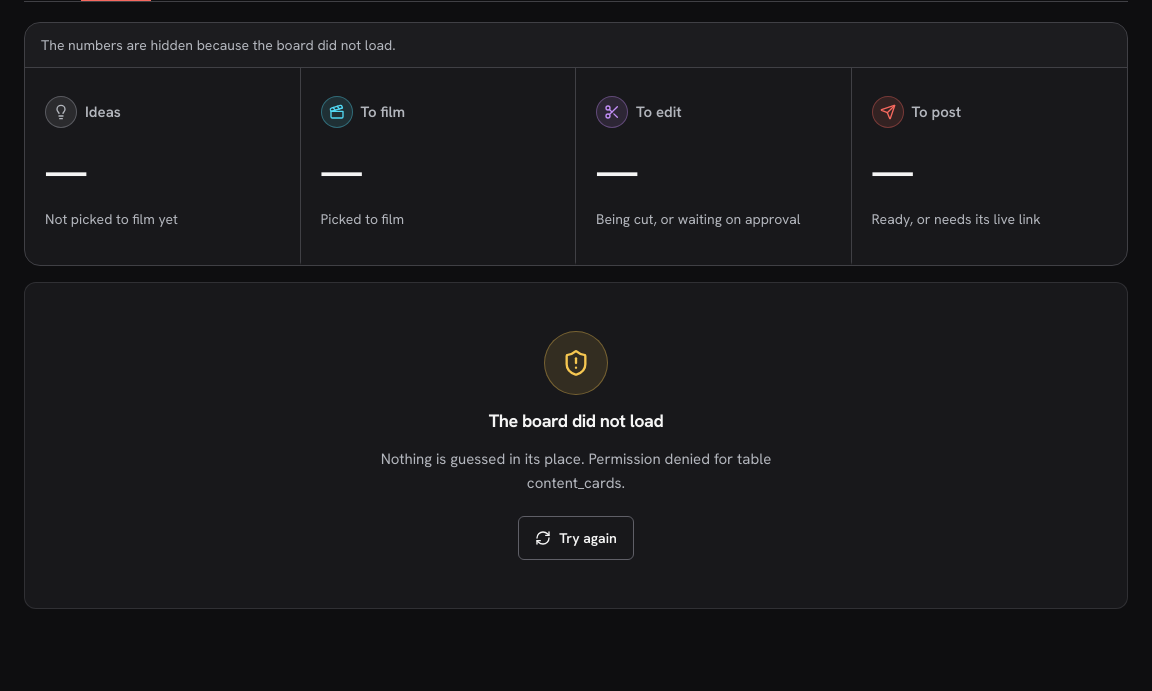
it: Launch Board: the Videos view › a board that did not load says so and shows a dash for every number, never a zero
(page scrolled)
Expected: the heading "The board did not load" is shown, x1=489 y1=407 x2=663 y2=435
Expected: the text "Permission denied for table content_cards" is shown, x1=381 y1=449 x2=771 y2=493
Click the button "Try again": [576, 538] box x1=518 y1=516 x2=634 y2=560
(page scrolled)
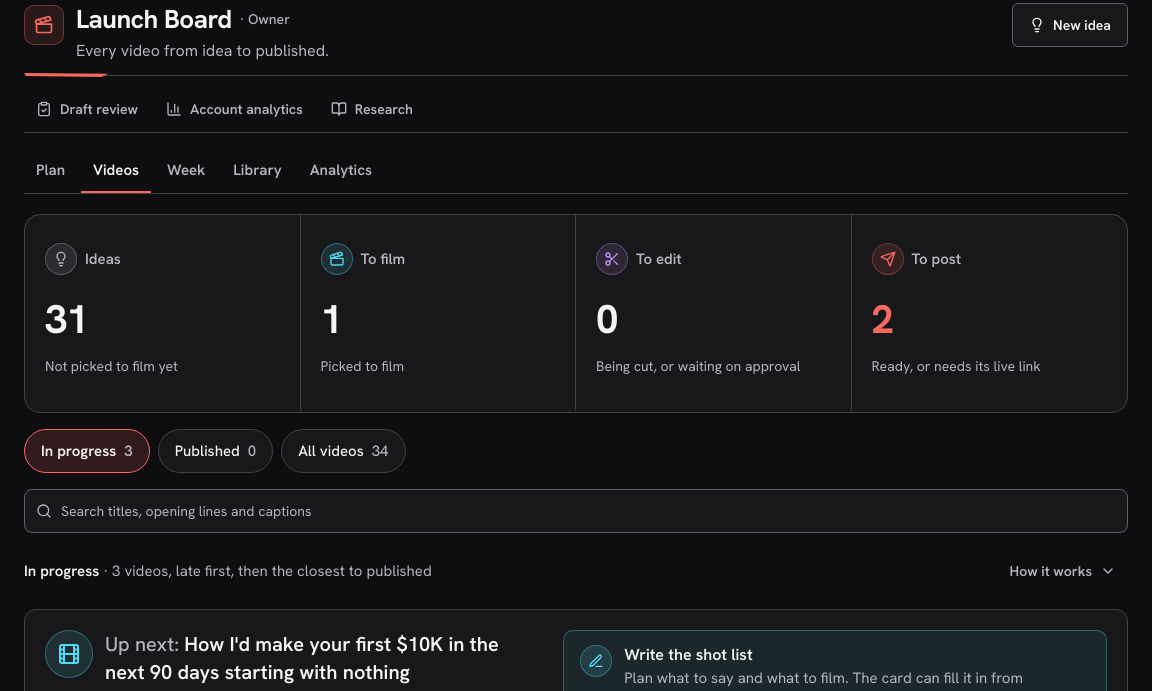
Now the heading "Up next:" is shown, box x1=105 y1=630 x2=539 y2=686
